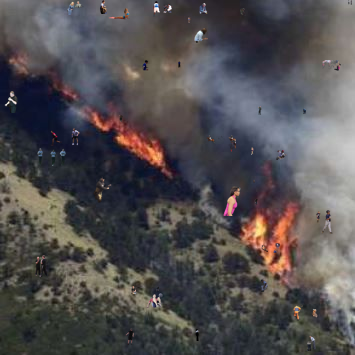Human: (142, 60, 181, 74), (153, 1, 187, 17), (50, 128, 80, 146), (223, 186, 241, 216), (37, 148, 66, 166), (93, 176, 112, 203), (206, 135, 236, 152), (145, 293, 178, 308), (293, 304, 318, 321), (316, 210, 333, 234), (4, 91, 18, 113), (305, 335, 324, 351), (35, 255, 48, 277), (108, 8, 130, 20), (67, 1, 84, 15), (194, 28, 208, 43), (322, 60, 341, 71), (125, 328, 134, 345), (199, 3, 209, 14), (276, 150, 287, 160), (260, 279, 268, 292), (100, 0, 107, 14), (273, 243, 282, 253), (258, 244, 268, 252), (195, 329, 201, 341), (240, 8, 246, 16), (131, 286, 136, 294), (258, 106, 262, 115), (254, 199, 258, 206), (119, 115, 123, 122), (251, 147, 254, 155), (188, 16, 191, 23), (348, 0, 352, 5), (251, 179, 255, 184), (156, 286, 159, 292), (303, 108, 306, 114)
